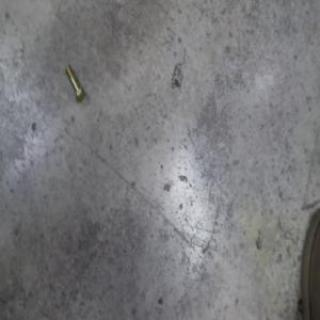Bolttrack_idkeyframe: (64, 62, 85, 102)
